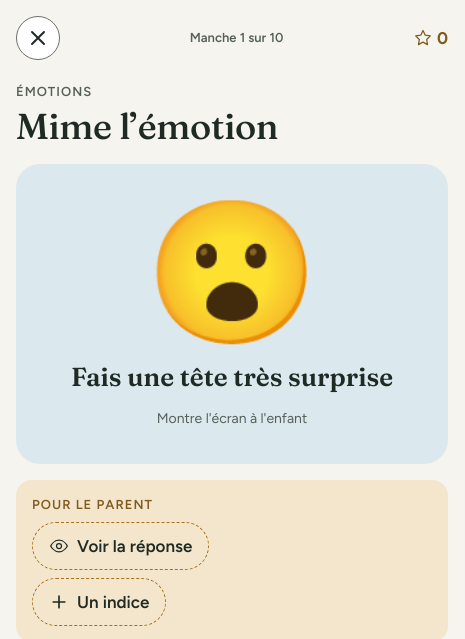
Test: jouer aux émotions › Mime l’émotion : l’enfant voit ce qu’il mime, le parent devine
Expected: the text "Montre l'écran à l'enfant" is shown, top-left (157, 405), bottom-right (307, 433)
Click the button "Voir la réponse" at (121, 546), box top-left (32, 522), bottom-right (209, 570)
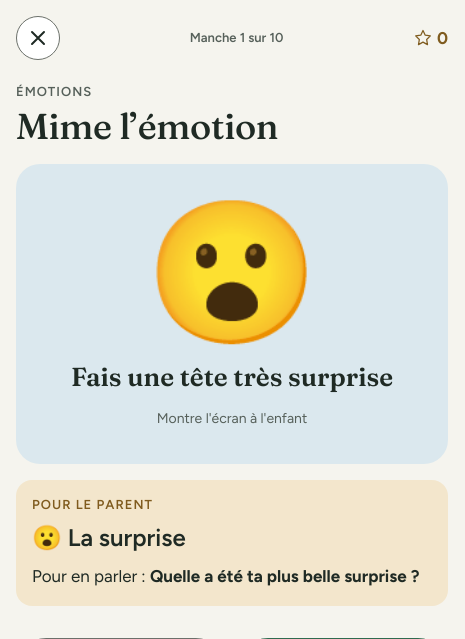
Result: the text "Quelle a été ta plus belle surprise ?" is shown at top-left (150, 566), bottom-right (419, 586)
